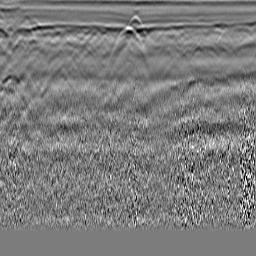cavity: (110, 23, 145, 53)
